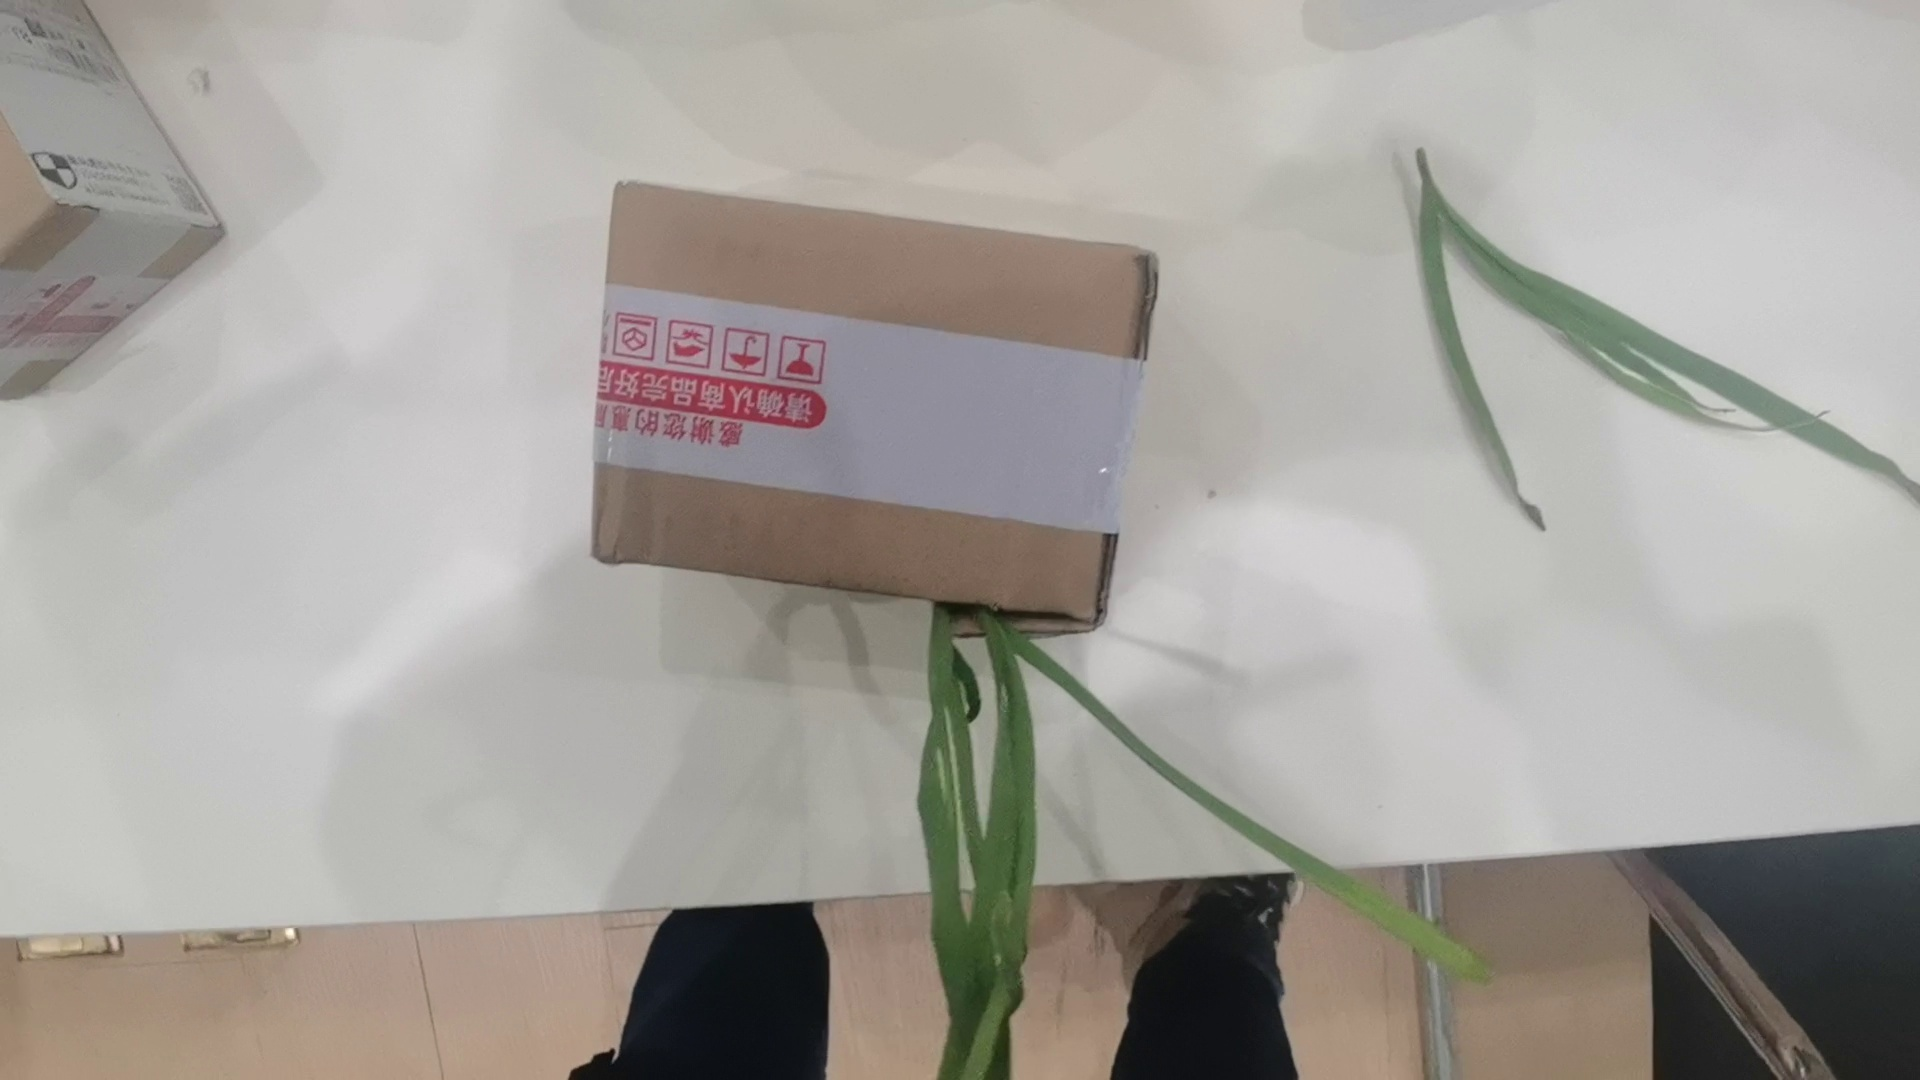chives: (841, 588, 1515, 1080), (1402, 142, 1920, 527)
